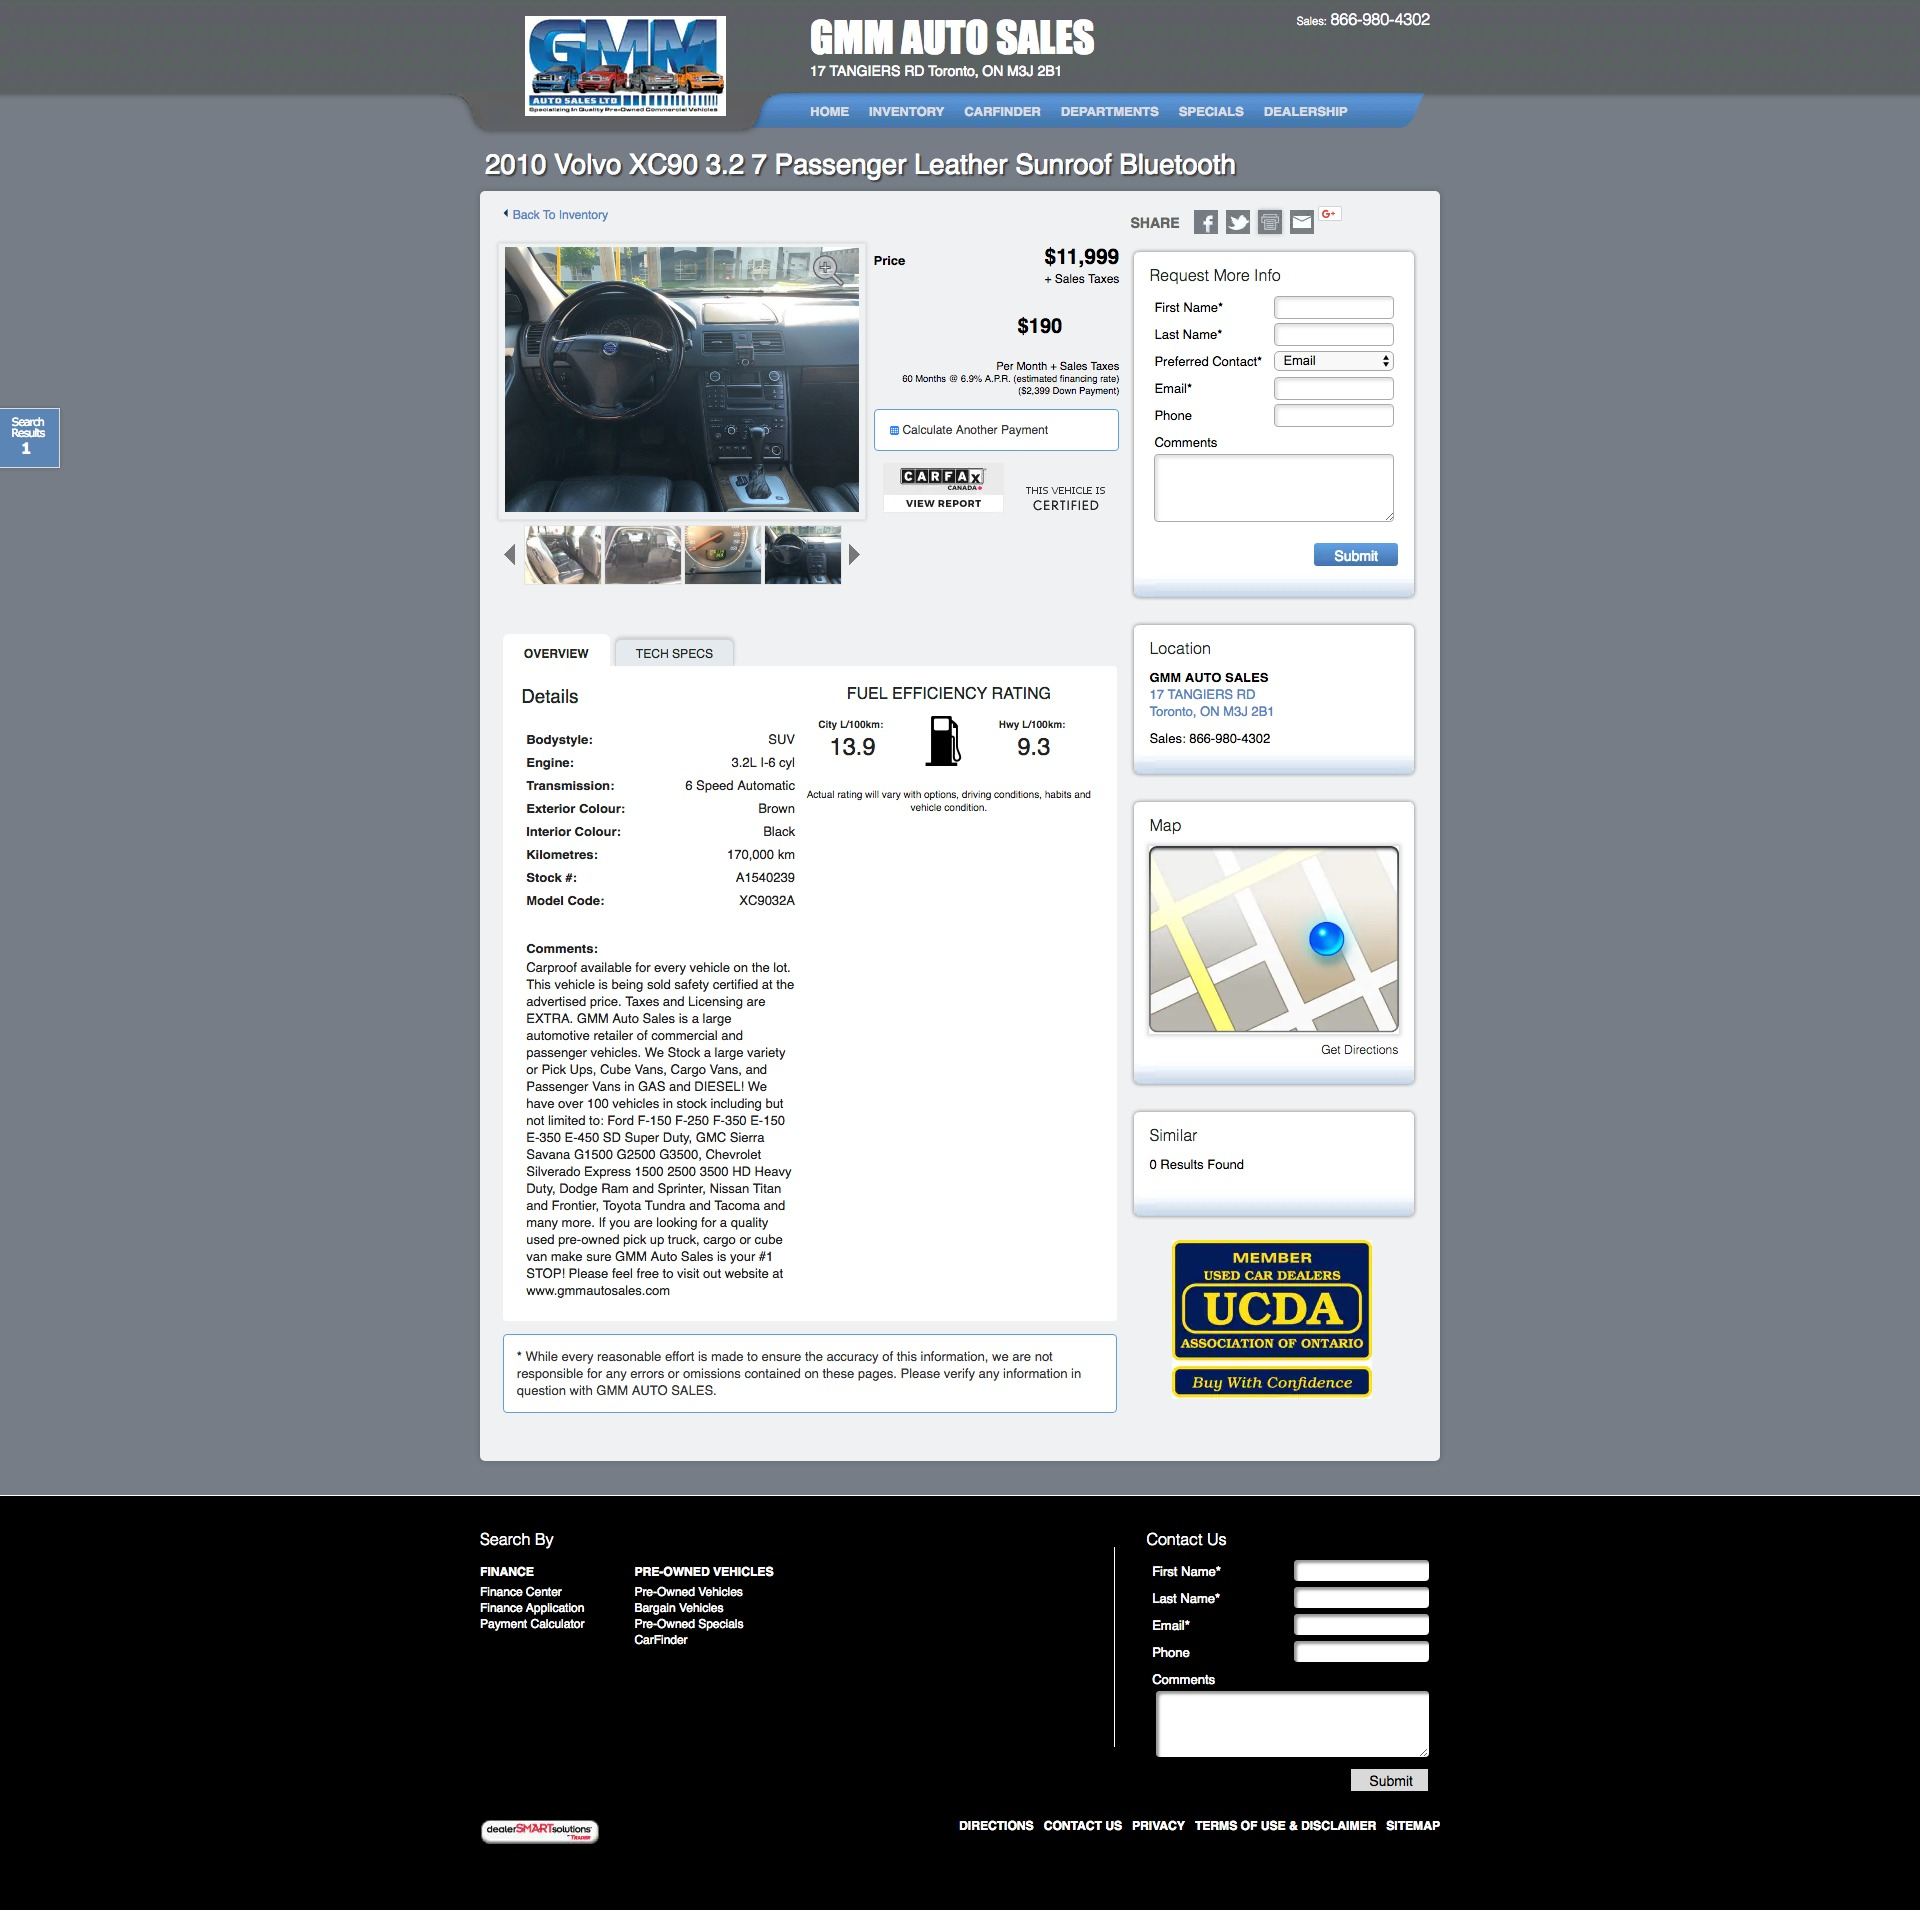car: (850, 544, 860, 567)
